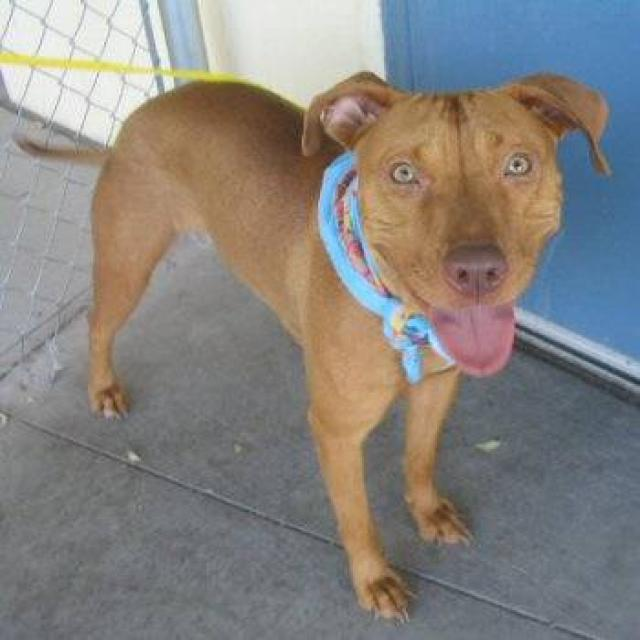dog: (13, 69, 613, 626)
